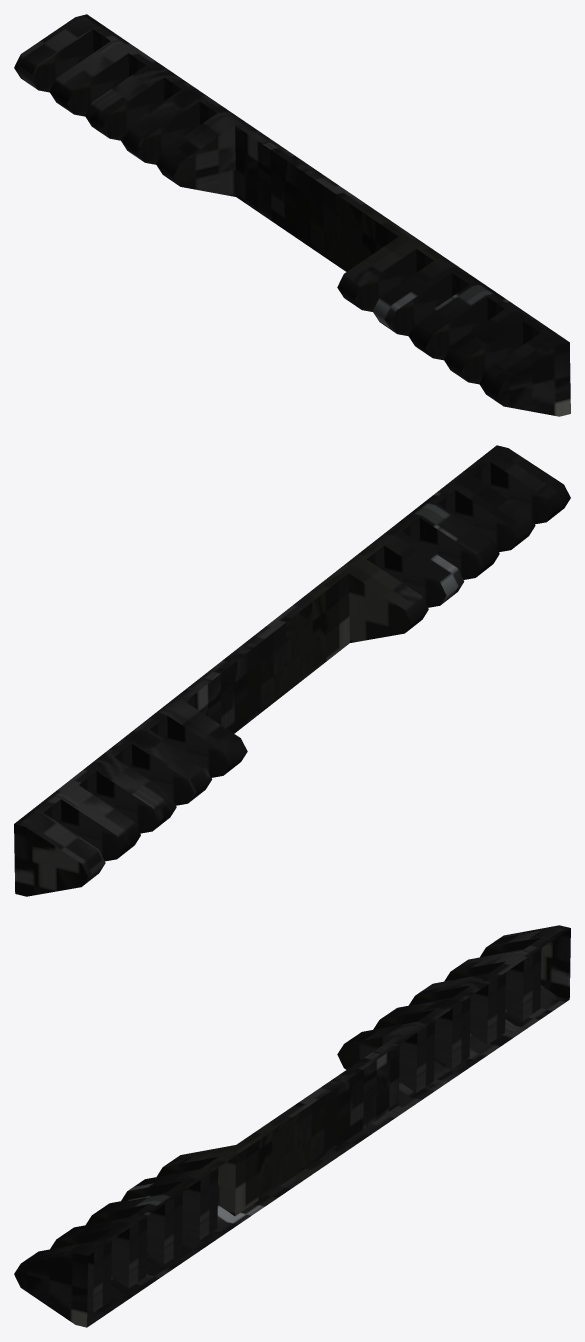
3 views of the same model, one above another, from view 1: azimuth 30°, elevation 25°; view 2: azimuth 150°, elevation 25°; view 3: azimuth 330°, elevation 25° (orthographic).
Visible parts, largest first — view 1: wingtipR_hinge_1_f35_ext_3_0; view 2: wingtipR_hinge_1_f35_ext_3_0; view 3: wingtipR_hinge_1_f35_ext_3_0.
Boxes of the visible parts, x1,y1,x2,y2 form: wingtipR_hinge_1_f35_ext_3_0: [14, 14, 570, 416]; wingtipR_hinge_1_f35_ext_3_0: [14, 445, 570, 896]; wingtipR_hinge_1_f35_ext_3_0: [14, 925, 570, 1327].
Size of the model in its own units: 9.43 by 11.78 by 108.
1 material, 1 textured.
